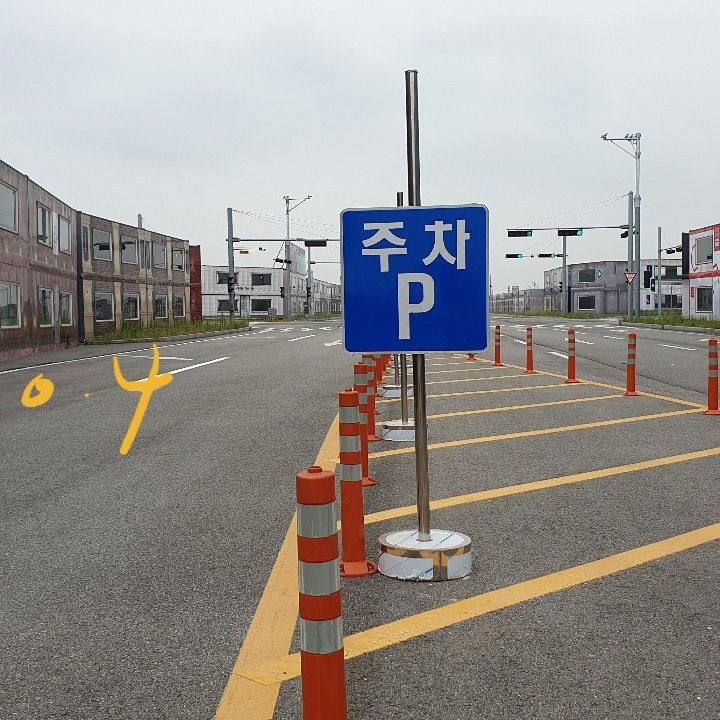parking: (390, 264, 442, 346)
